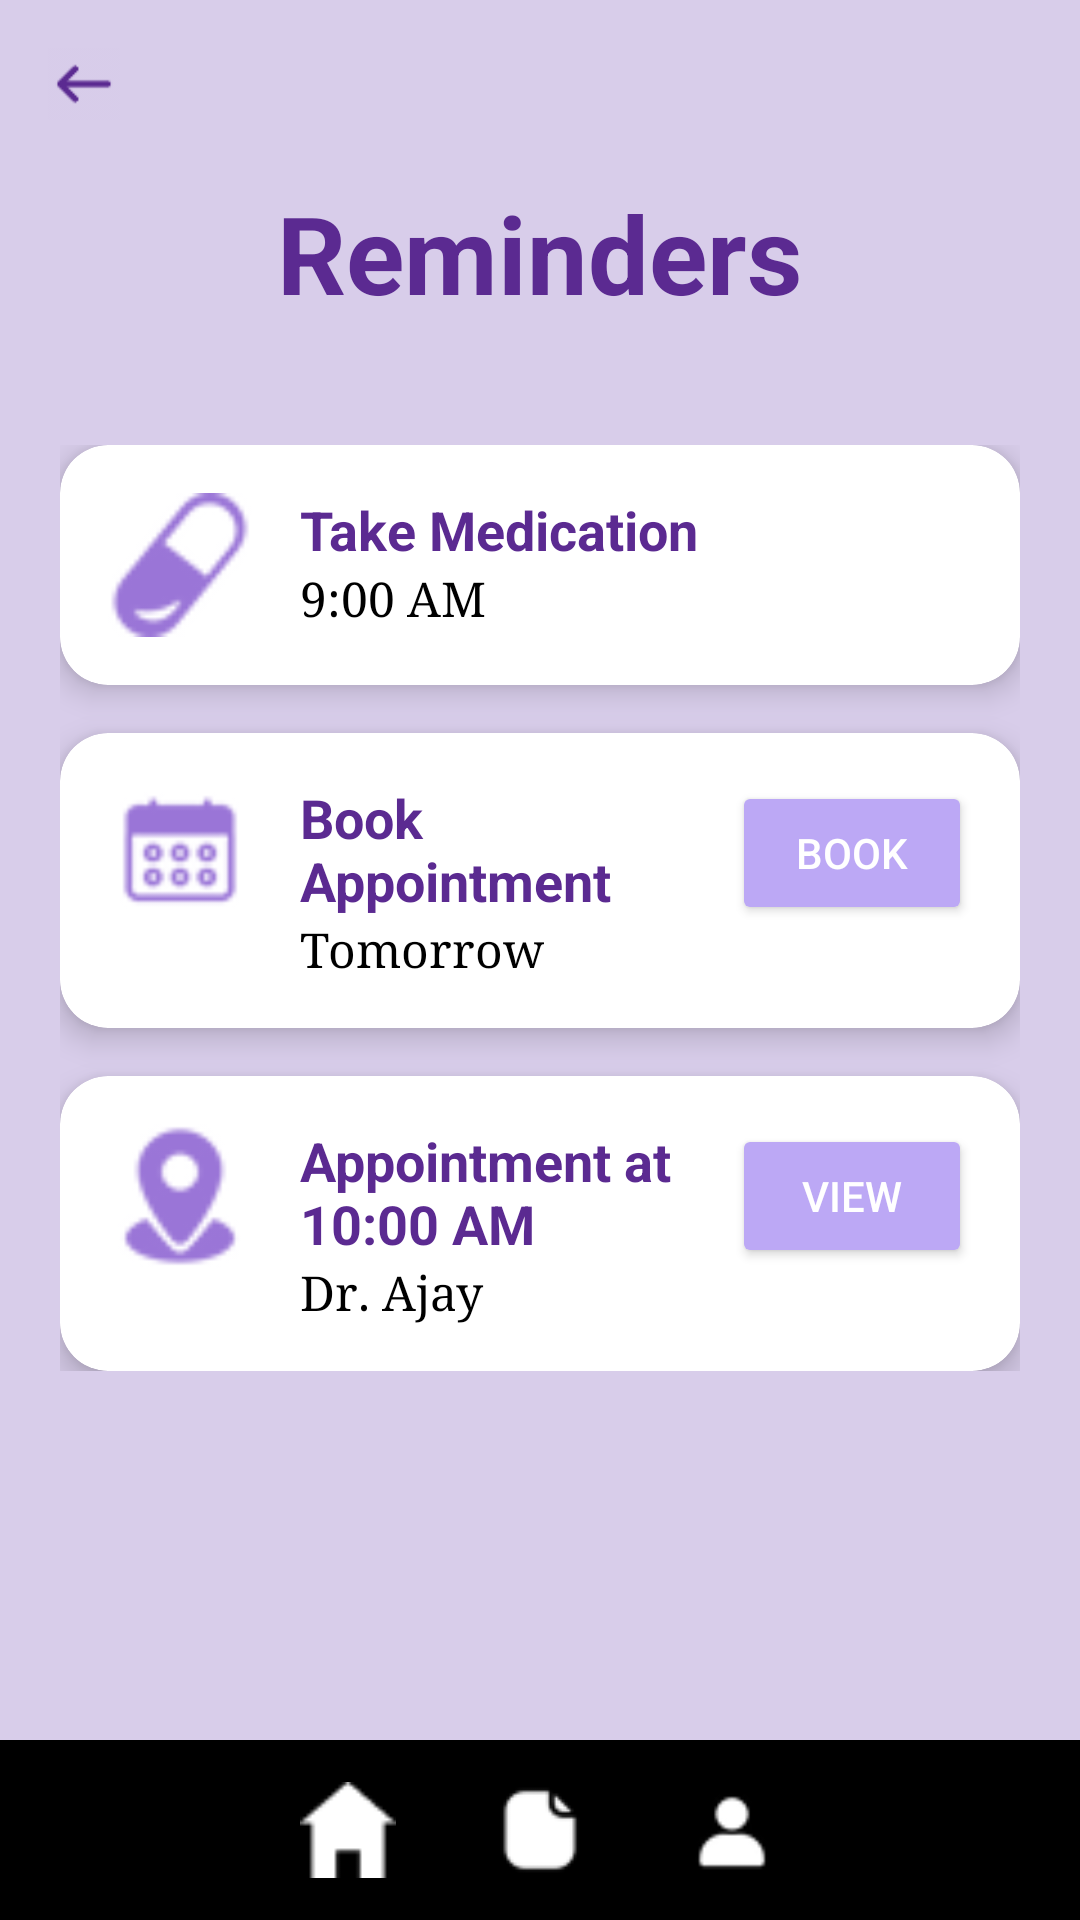

Named icons in this screenshot (1080w x 1920h) and their centers, point (x, y):
Back: point (84, 84)
Home: point (348, 1830)
Location Icon: point (180, 1196)
Profile: point (732, 1832)
Records: point (540, 1830)
